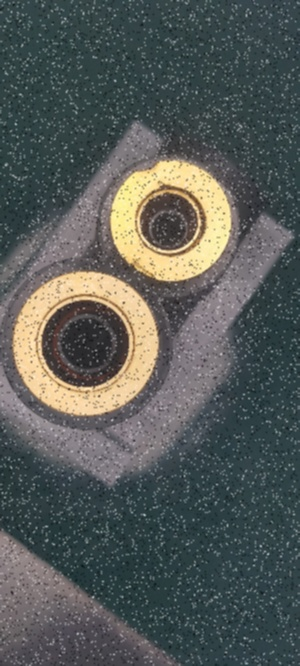bump: (127, 255, 162, 283), (135, 161, 163, 175)
